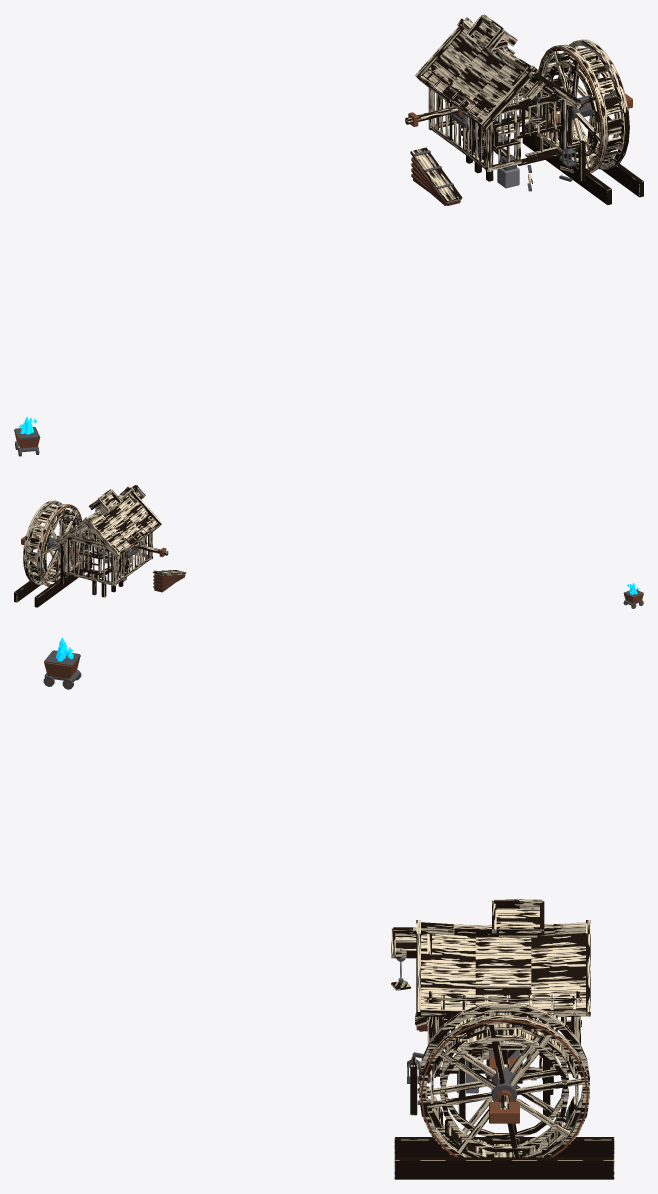
File: LOBBY_VFX_MOVING_87a2cf.fbx
3 views of the same model, one above another, from view 1: azimuth 30°, elevation 25°; view 2: azimuth 150°, elevation 25°; view 3: azimuth 270°, elevation 25° (orthographic). The views are drawn at different scales.
Visible parts, largest first — view 1: VFX_Fixa__Wood_Dark, VFX_Roda__Wood_Dark_B, VFX_Roda__Wood_Plank_B, VFX_Fixa__Wood_Plank_B, VFX_Roda__Wood_Light, VFX_Foles__Wood_Plank_C; view 2: VFX_Fixa__Wood_Dark, VFX_Roda__Wood_Dark_B, VFX_Roda__Wood_Plank_B, VFX_Fixa__Wood_Plank_B, VFX_Roda__Wood_Light, VFX_Foles__Leather_Bellows, VFX_Roda__Metal_Rust; view 3: VFX_Fixa__Wood_Dark, VFX_Roda__Wood_Dark_B, VFX_Fixa__Wood_Plank_B, VFX_Roda__Wood_Light, VFX_Roda__Wood_Plank_B, VFX_Roda__Metal_Rust, VFX_Fixa__Metal_Rust.
Boxes of the visible parts, x1,y1,x2,y2 form: VFX_Fixa__Wood_Dark: [415, 14, 585, 182]; VFX_Roda__Wood_Dark_B: [461, 39, 629, 173]; VFX_Roda__Wood_Plank_B: [544, 48, 621, 165]; VFX_Fixa__Wood_Plank_B: [522, 128, 643, 205]; VFX_Roda__Wood_Light: [465, 46, 621, 167]; VFX_Foles__Wood_Plank_C: [410, 147, 462, 203]; VFX_Fixa__Wood_Dark: [54, 485, 162, 597]; VFX_Roda__Wood_Dark_B: [23, 500, 131, 586]; VFX_Roda__Wood_Plank_B: [28, 506, 78, 582]; VFX_Fixa__Wood_Plank_B: [14, 557, 92, 607]; VFX_Roda__Wood_Light: [29, 505, 130, 581]; VFX_Foles__Leather_Bellows: [153, 574, 185, 592]; VFX_Roda__Metal_Rust: [23, 504, 82, 585]; VFX_Fixa__Wood_Dark: [391, 899, 590, 1119]; VFX_Roda__Wood_Dark_B: [419, 1001, 589, 1157]; VFX_Fixa__Wood_Plank_B: [394, 1137, 614, 1179]; VFX_Roda__Wood_Light: [426, 1011, 581, 1157]; VFX_Roda__Wood_Plank_B: [430, 1012, 578, 1157]; VFX_Roda__Metal_Rust: [420, 1019, 588, 1157]; VFX_Fixa__Metal_Rust: [489, 1057, 519, 1123].
Bounding box in the file's own units: 128 × 25.76 × 62.34.
6 materials, 1 textured.
